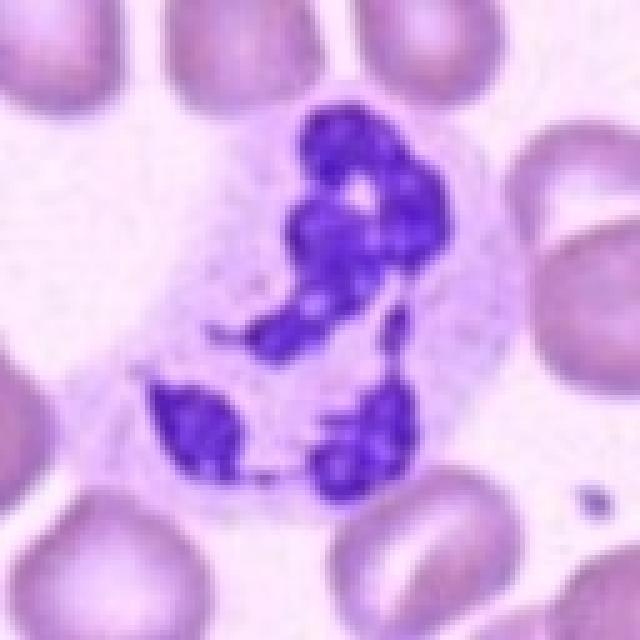neutro: (127, 106, 542, 503)
